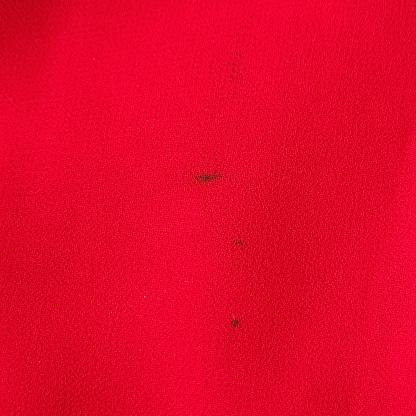spot: (190, 168, 237, 187), (228, 312, 251, 335), (226, 232, 249, 250)
